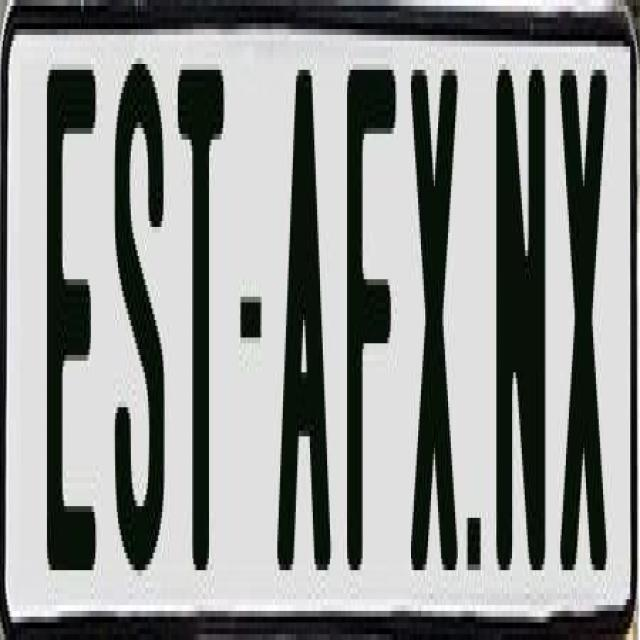A: (277, 52, 333, 570)
E: (42, 58, 98, 576)
F: (347, 58, 395, 559)
N: (494, 58, 550, 594)
S: (114, 64, 164, 576)
T: (175, 70, 222, 570)
X: (560, 52, 616, 564), (406, 64, 459, 588)
